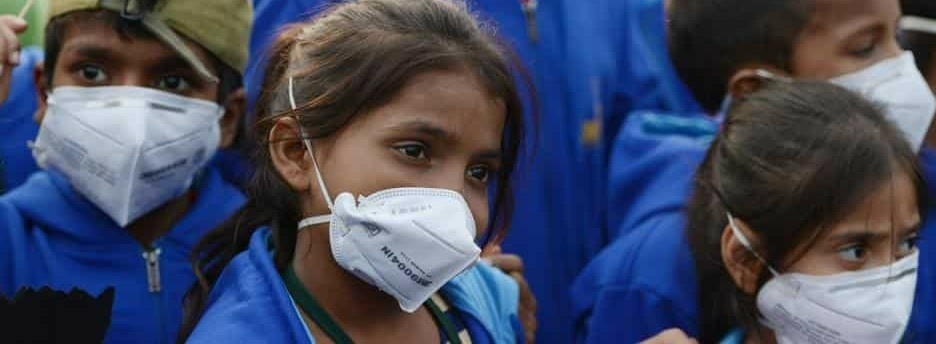with_mask: (263, 54, 497, 307), (32, 20, 238, 221), (721, 190, 936, 344), (735, 2, 936, 156)
